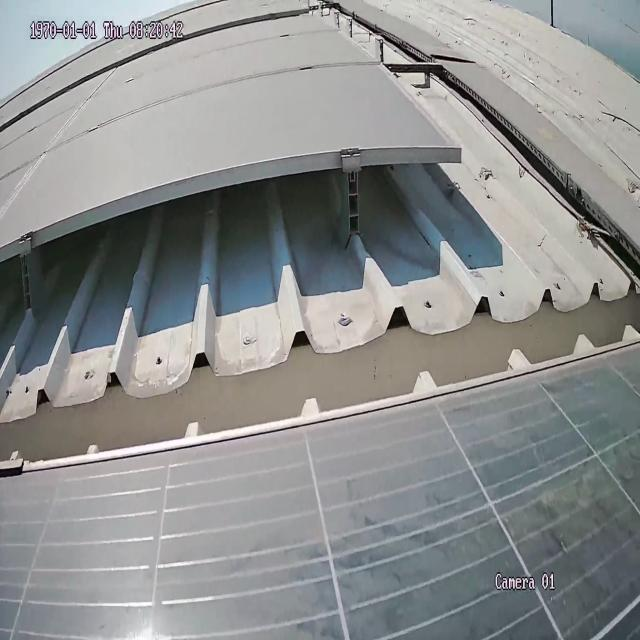outher panel: (0, 0, 640, 471)
